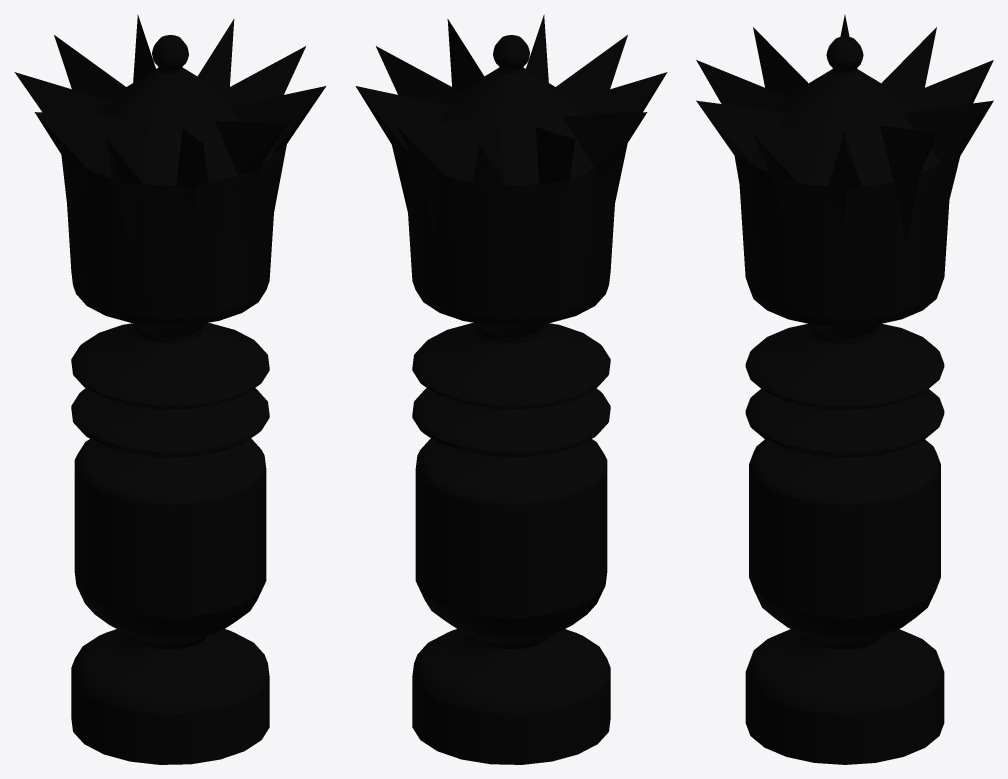
3 renders of one model, left to right at view 1: azimuth 30°, elevation 25°; view 2: azimuth 150°, elevation 25°; view 3: azimuth 270°, elevation 25°, orthographic.
Visible parts, largest first — view 1: Queen_White_Pieces1_0; view 2: Queen_White_Pieces1_0; view 3: Queen_White_Pieces1_0.
Boxes of the visible parts, left/top/right/bottom form: Queen_White_Pieces1_0: left=14, top=14, right=326, bottom=764; Queen_White_Pieces1_0: left=355, top=14, right=667, bottom=764; Queen_White_Pieces1_0: left=696, top=15, right=993, bottom=764.
Size of the model in its own units: 2.52 by 2.4 by 6.07.
1 material, 1 textured.
